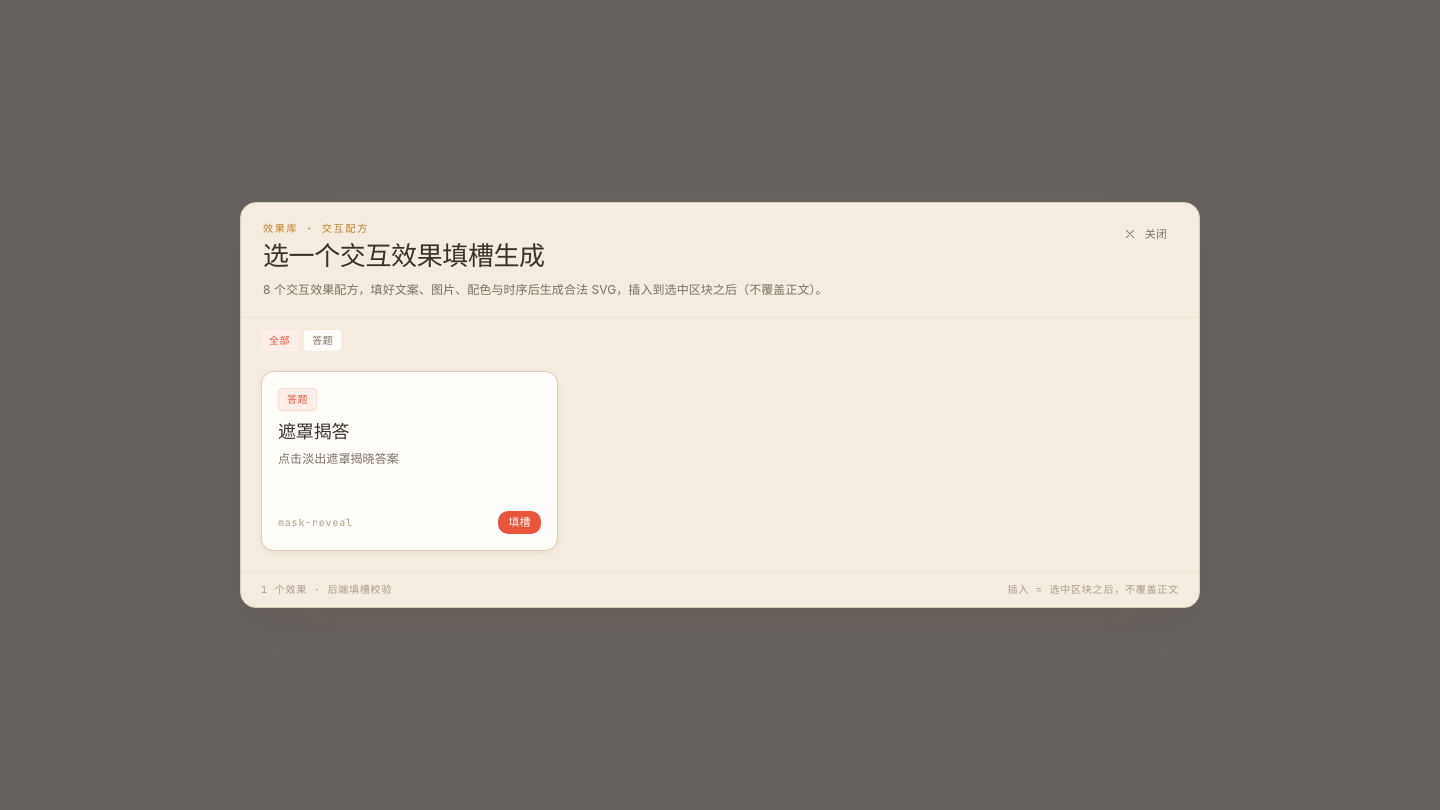
EffectGallery › enters the slot form when a card is selected
Expected: the heading "遮罩揭答" is shown, top-left (278, 422), bottom-right (349, 442)
Click the button "填槽" at (520, 522), box top-left (498, 511), bottom-right (541, 534)
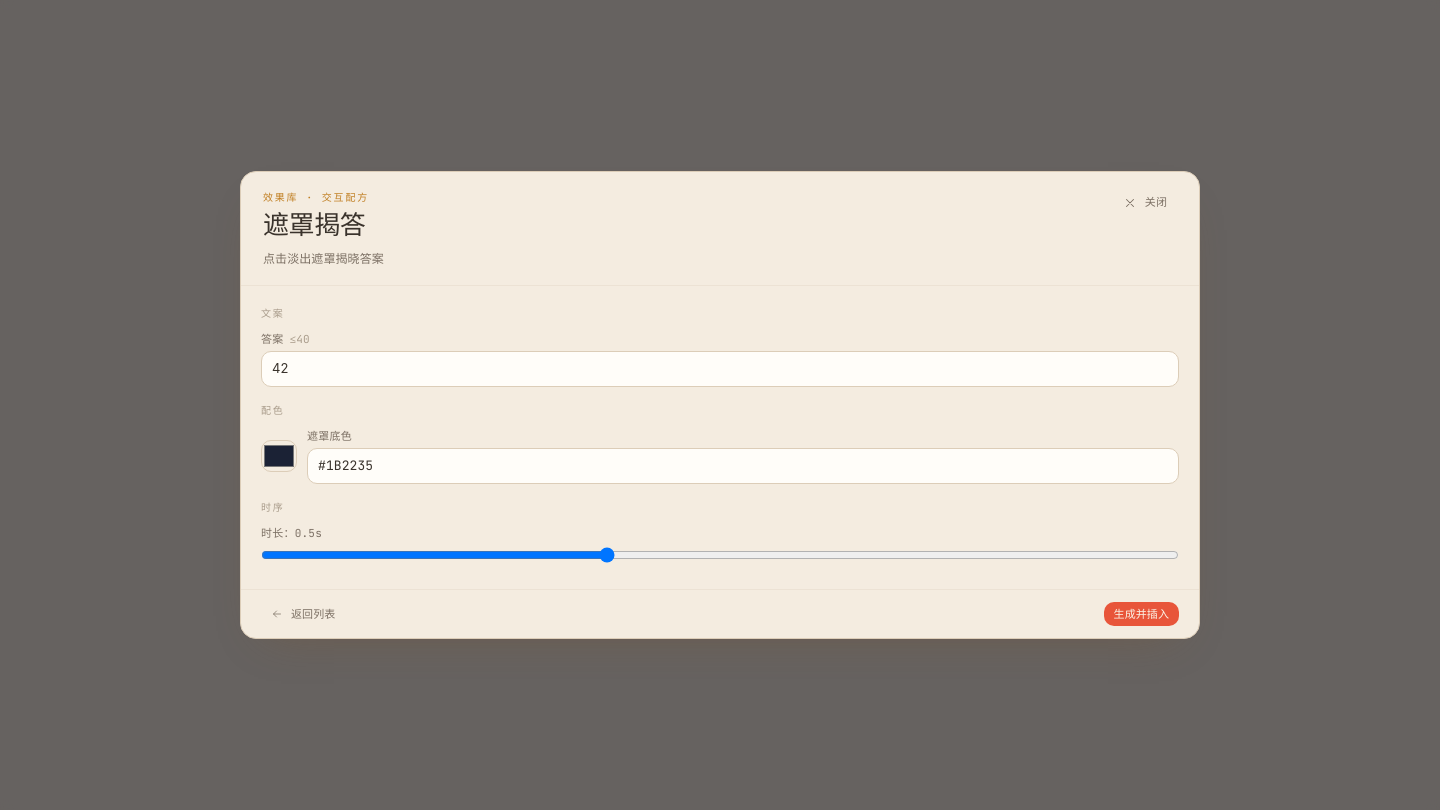
Result: the button "生成并插入" is shown at top-left (1104, 602), bottom-right (1179, 626)
Result: the text "答案" is shown at top-left (261, 332), bottom-right (284, 346)
